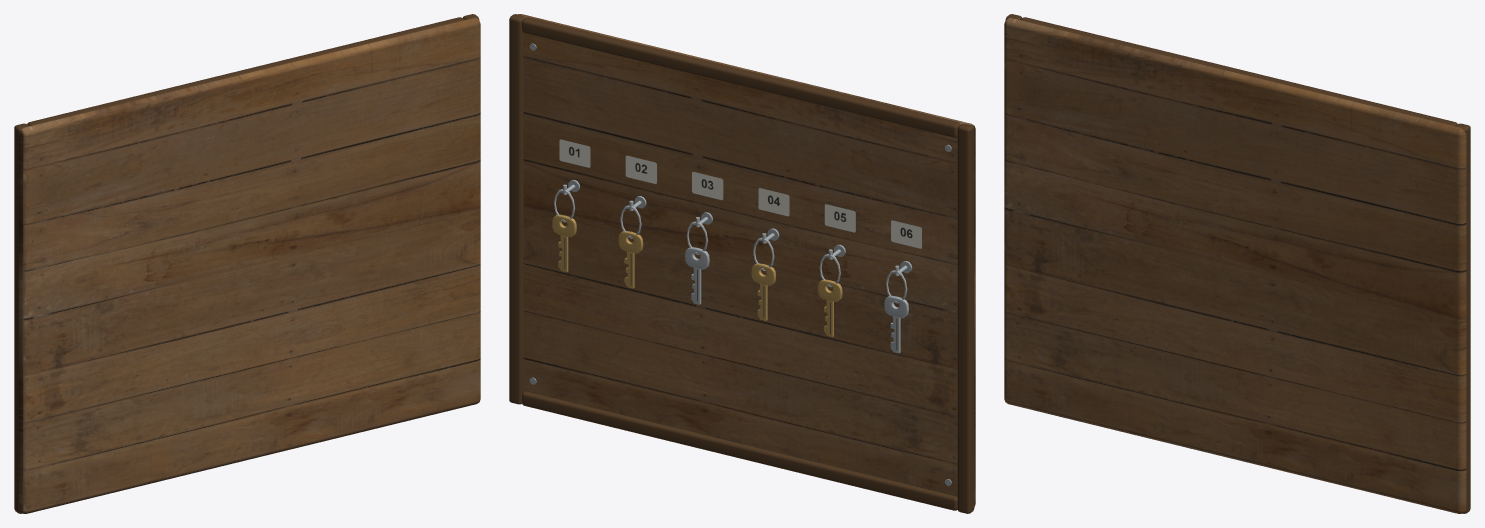
The model's file is quadro_chaves_realista.glb.
3 renders of one model, left to right at view 1: azimuth 30°, elevation 25°; view 2: azimuth 150°, elevation 25°; view 3: azimuth 330°, elevation 25°, orthographic.
Parts seen in each view (by area): view 1: Painel de madeira, Acabamento horizontal.001, Acabamento lateral; view 2: Painel de madeira, Acabamento horizontal.001, Acabamento lateral, Acabamento horizontal, Acabamento lateral.001, Numeracao dos ganchos; view 3: Painel de madeira, Acabamento horizontal.001, Acabamento lateral.001.
Boxes of the visible parts, x1,y1,x2,y2 form: Painel de madeira: (18, 18, 480, 513); Acabamento horizontal.001: (27, 17, 464, 125); Acabamento lateral: (14, 123, 29, 513); Painel de madeira: (518, 14, 975, 506); Acabamento horizontal.001: (522, 17, 959, 137); Acabamento lateral: (957, 123, 974, 513); Acabamento horizontal: (522, 391, 957, 510); Acabamento lateral.001: (509, 14, 524, 404); Numeracao dos ganchos: (559, 139, 922, 248); Painel de madeira: (1004, 18, 1466, 513); Acabamento horizontal.001: (1020, 17, 1457, 125); Acabamento lateral.001: (1455, 123, 1470, 513).
Size of the model in its own units: 0.5 by 0.4 by 0.034.
11 materials, 2 textured.
